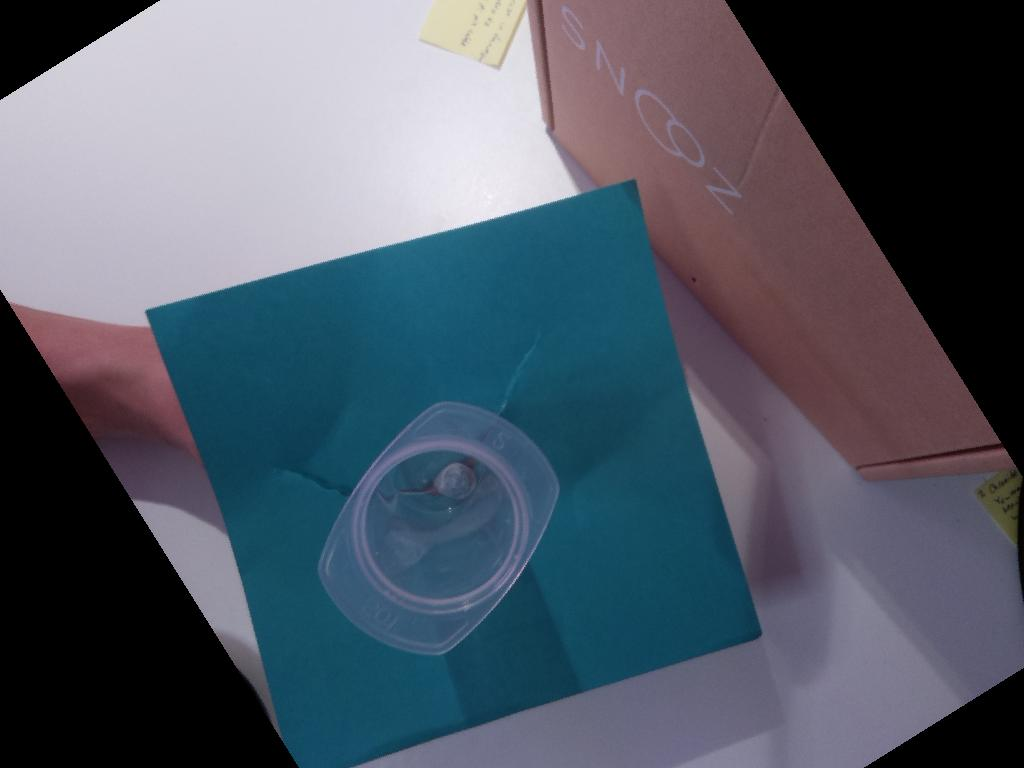clean: (317, 401, 559, 656)
